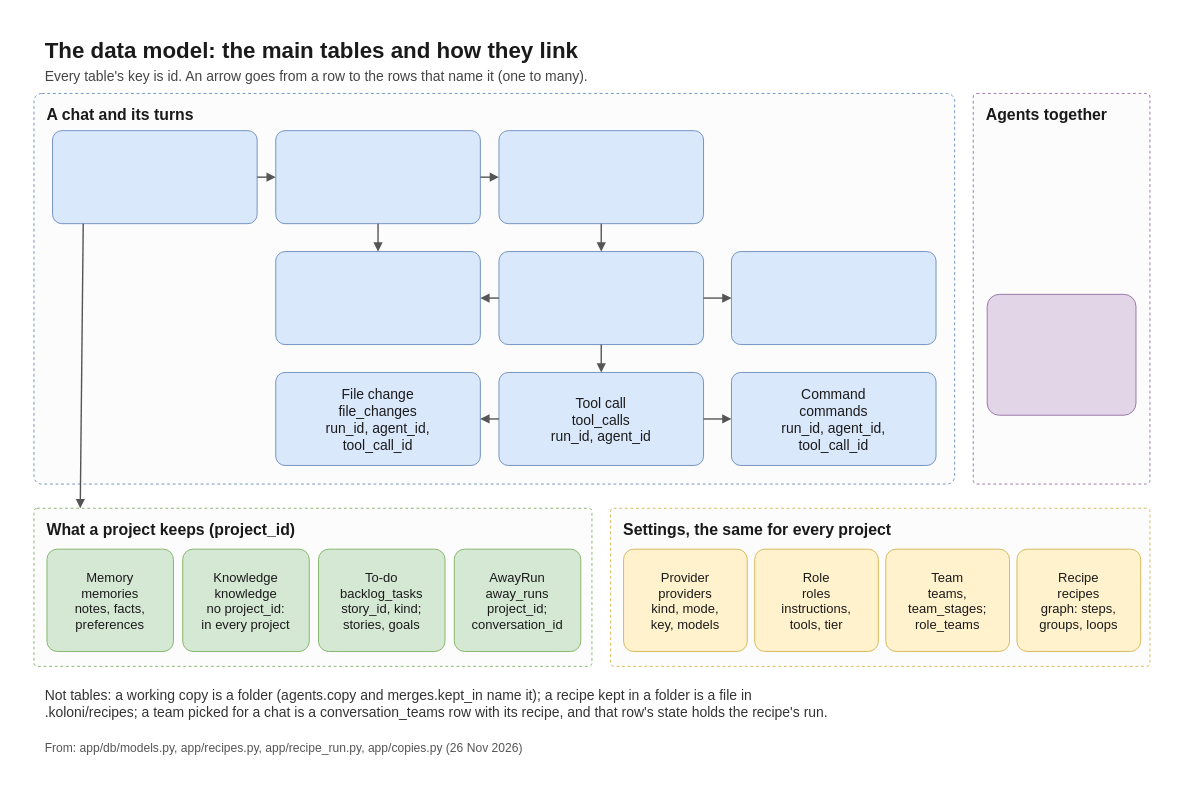
Image size: 1184x793. Some labels were removed from this diagram. Here are the shapes that lost their labels. From the top down, the centre of each, then its label:
At point (154, 177): "Project projects its folder, settings, its test commands".
At point (377, 177): "Chat conversations project_id (none: a plain chat)".
At point (601, 177): "Turn runs conversation_id, status".
At point (377, 298): "Message messages conversation_id, run_id, agent_id".
At point (601, 298): "Agent agents run_id, parent_agent_id (a sub-agent's parent)".
At point (833, 298): "Take in (merge) merges run_id, agent_id, kept_in".
At point (1061, 354): "Discussion discussions run_id, agent_id; discussion_posts".
